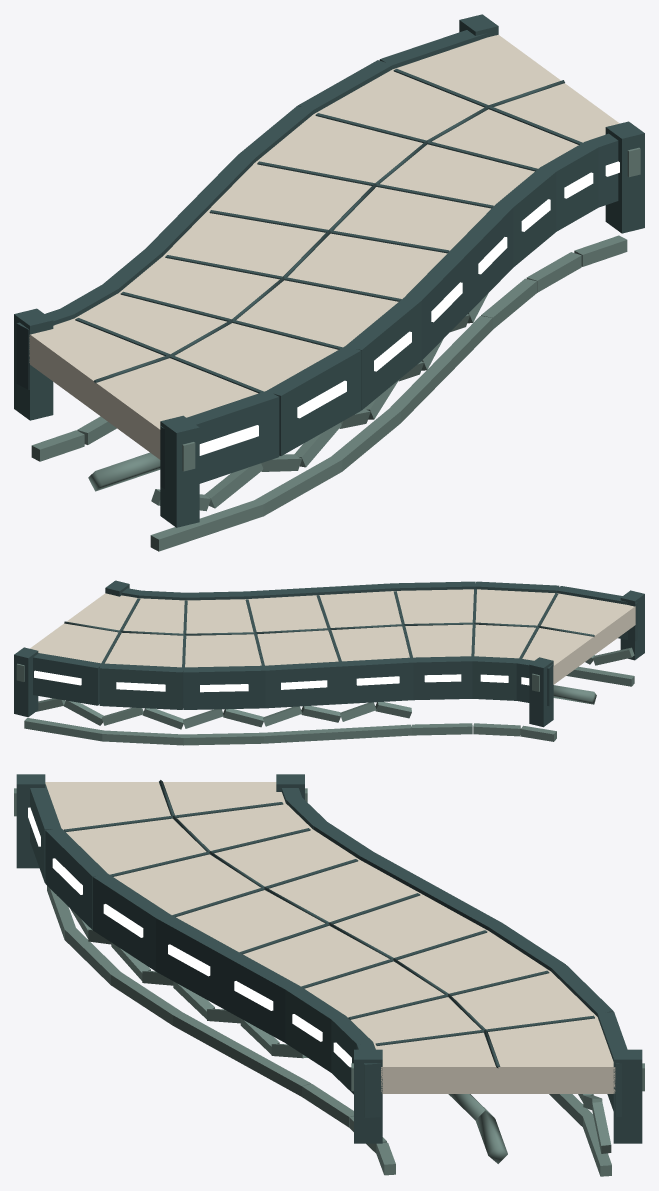
The model's file is Sbend_L4_lab.glb.
3 views of the same model, one above another, from view 1: azimuth 30°, elevation 25°; view 2: azimuth 150°, elevation 25°; view 3: azimuth 270°, elevation 25° (orthographic). The views are drawn at different scales.
Parts seen in each view (by area): view 1: Sbend_L4; view 2: Sbend_L4; view 3: Sbend_L4.
Part boxes in pixels (x1,y1,x2,y2): Sbend_L4: [14, 14, 644, 551]; Sbend_L4: [14, 580, 644, 745]; Sbend_L4: [14, 774, 644, 1176].
Bounding box in the file's own units: 8.08 × 1.52 × 7.48.
